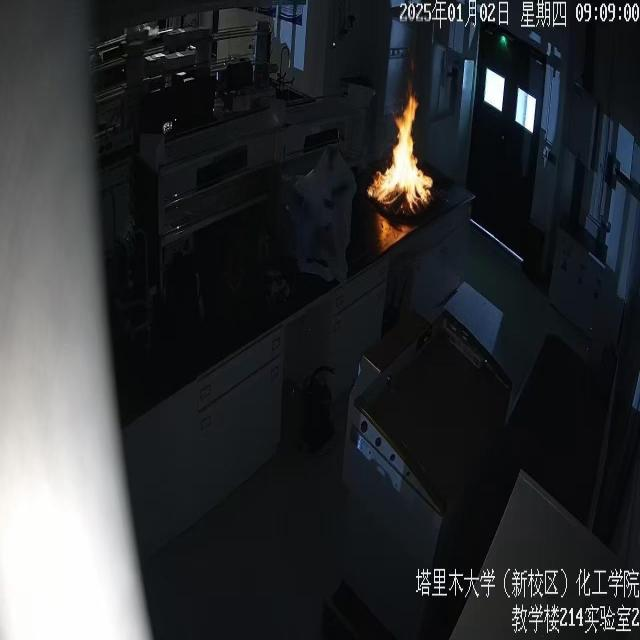fire: (358, 61, 452, 250)
